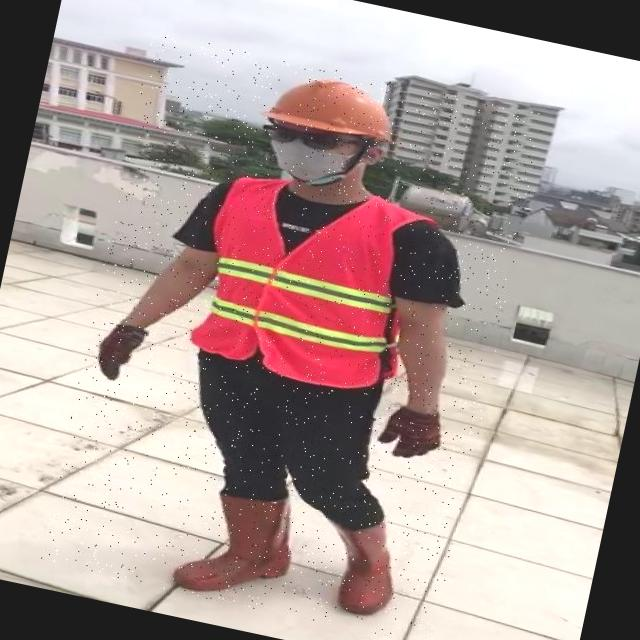boots: (169, 476, 300, 609), (319, 510, 408, 620)
helmet: (258, 63, 406, 151)
vest: (188, 170, 421, 396)
